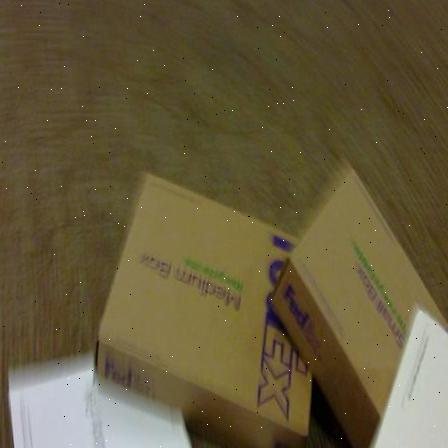Amazon: (107, 184, 313, 448)
